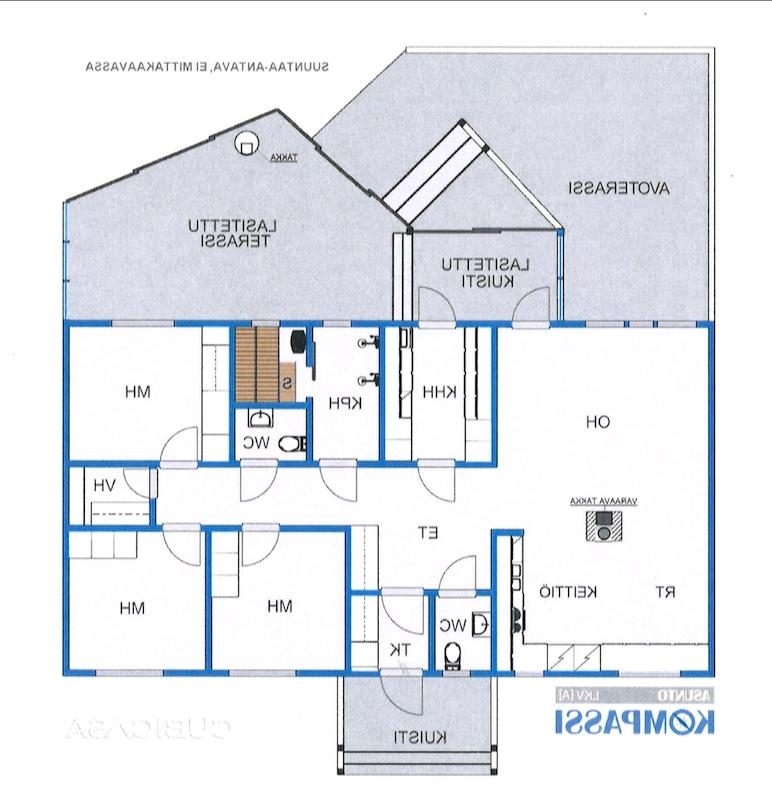bathroom: (431, 594, 491, 674), (233, 406, 310, 460)
door: (230, 452, 282, 504), (504, 283, 556, 332), (380, 583, 428, 636), (378, 666, 425, 718), (156, 520, 206, 568), (158, 423, 204, 474), (238, 518, 284, 569), (411, 456, 459, 504), (436, 552, 482, 600), (318, 454, 364, 501), (414, 286, 460, 330), (120, 464, 160, 503)
perimeter: (60, 316, 719, 674)
stairs: (336, 748, 498, 777)
window: (92, 661, 170, 682), (222, 664, 302, 683), (106, 316, 178, 335), (612, 664, 685, 680), (654, 315, 704, 334), (582, 314, 628, 332), (54, 198, 72, 243), (552, 276, 569, 322), (57, 277, 72, 326), (554, 232, 569, 278), (57, 239, 72, 280), (508, 668, 550, 682), (626, 315, 656, 332), (322, 316, 358, 330), (249, 316, 284, 330)
